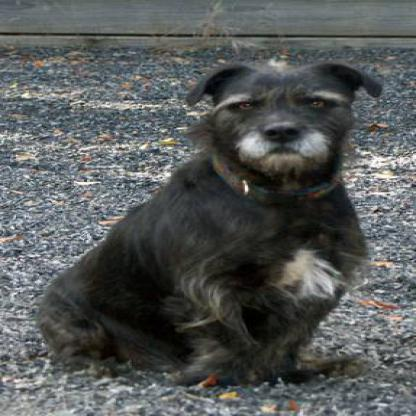dog: (75, 70, 371, 379)
